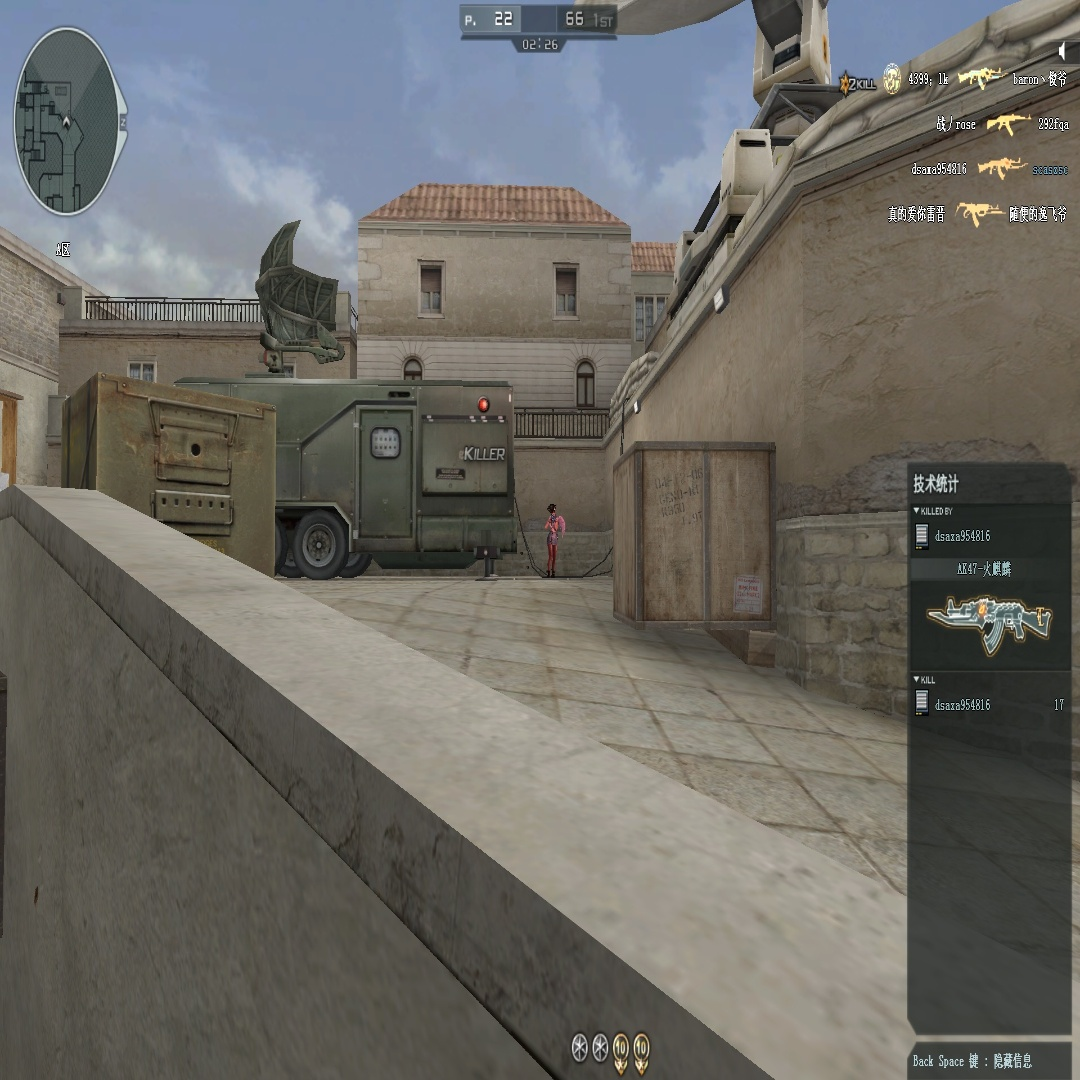p: (543, 502, 565, 578)
